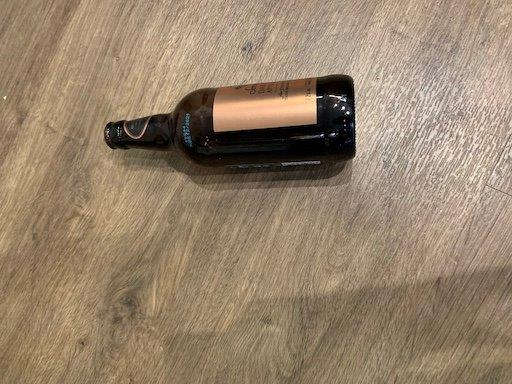botolkaca: (104, 75, 357, 166)
